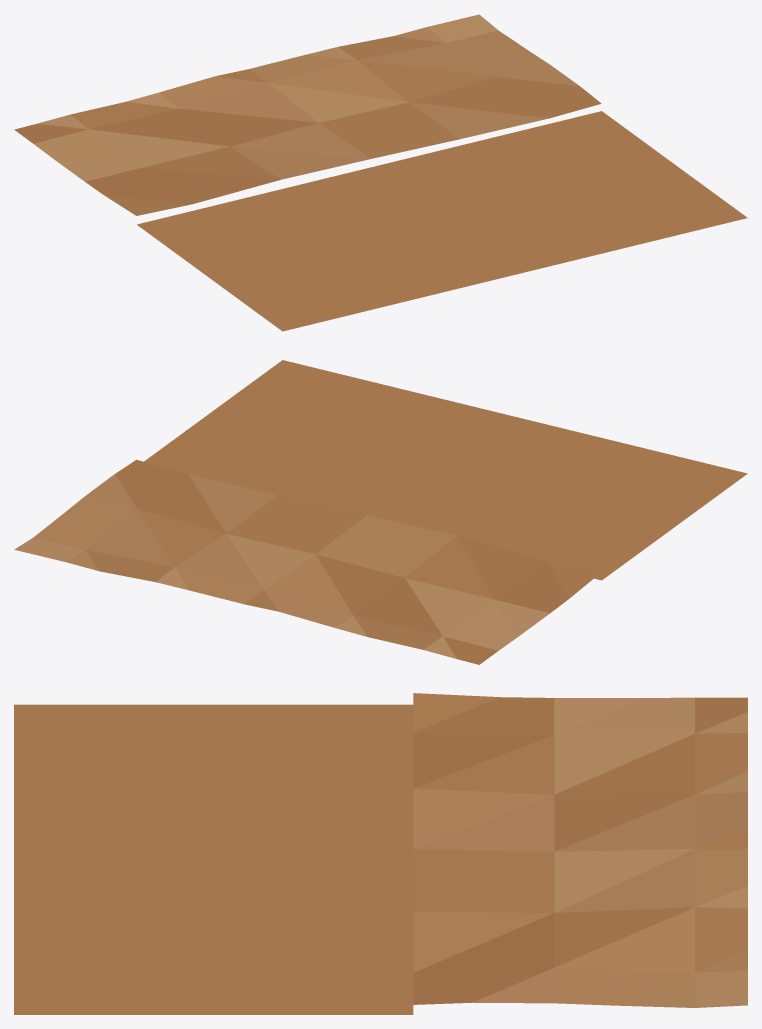
The picture shows the model from 3 angles, top to bottom: view 1: azimuth 30°, elevation 25°; view 2: azimuth 150°, elevation 25°; view 3: azimuth 270°, elevation 25°; orthographic projection. The views are drawn at different scales.
Visible parts, largest first — view 1: baked; view 2: baked; view 3: baked.
Boxes of the visible parts, box(x1,y1,x2,y2) form: baked: box(14, 14, 747, 331); baked: box(14, 360, 747, 664); baked: box(14, 693, 747, 1014).
Size of the model in its own units: 62.5 by 1.25 by 62.5.
